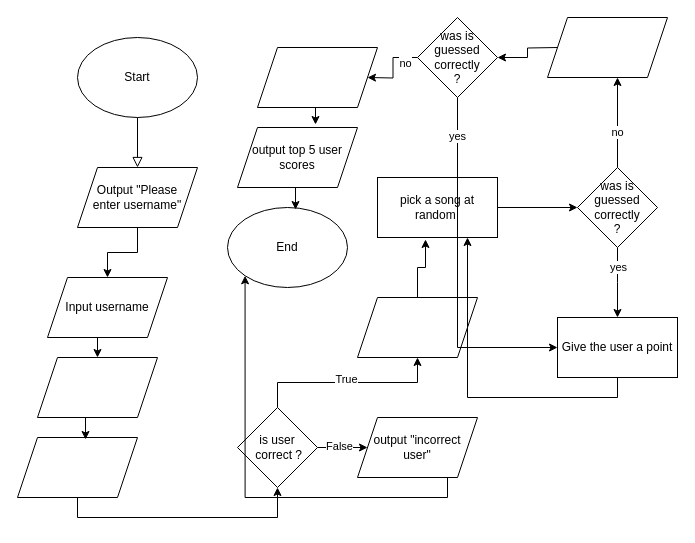
Image size: 695x543. Some labels were removed from this diagram. Each missing label, with the centre of its shape:
input password: point 77,467
input second guess: point 607,47
output "game over": point 317,77
output "Game Starting": point 417,327
Output "please enter password": point 97,387
